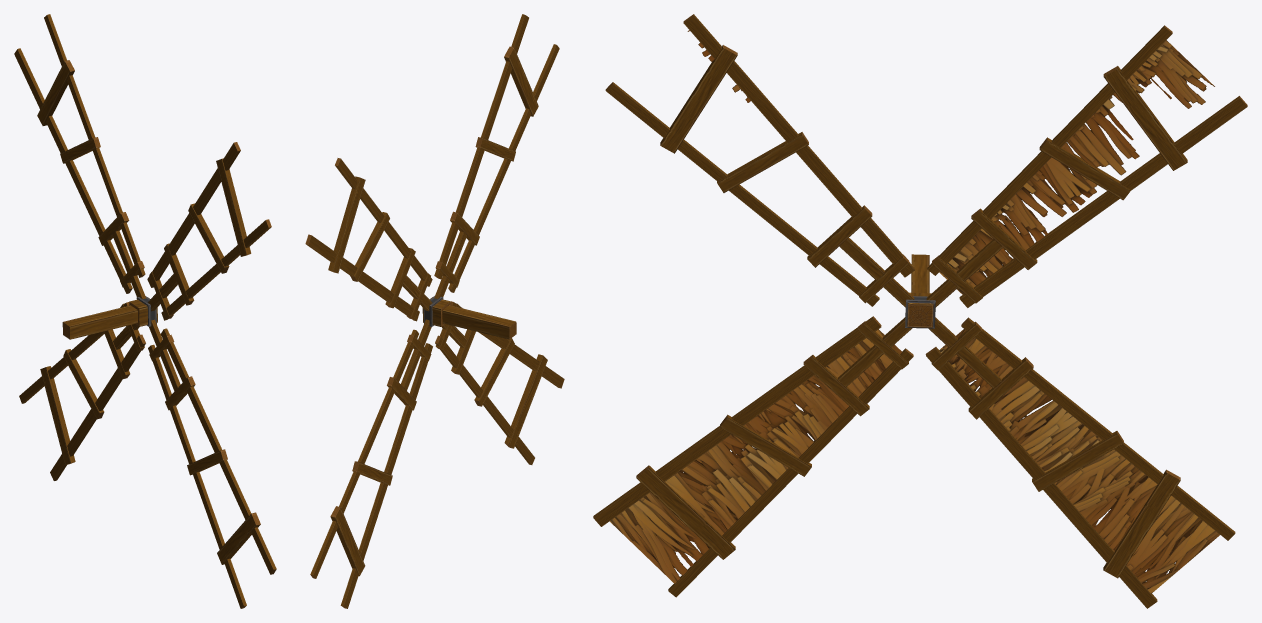
Rendered from windmillblades.gltf.
3 renders of one model, left to right at view 1: azimuth 30°, elevation 25°; view 2: azimuth 150°, elevation 25°; view 3: azimuth 270°, elevation 25°, orthographic. The views are drawn at different scales.
Visible parts, largest first — view 1: SM_Windmill_Sail (1); view 2: SM_Windmill_Sail (1); view 3: SM_Windmill_Sail (1).
Part boxes in pixels (x1=…): SM_Windmill_Sail (1): x1=14, y1=14, x2=276, y2=608; SM_Windmill_Sail (1): x1=305, y1=14, x2=564, y2=608; SM_Windmill_Sail (1): x1=593, y1=14, x2=1247, y2=608.
Size of the model in its own units: 10.29 by 53.54 by 53.54.
3 materials, 3 textured.
